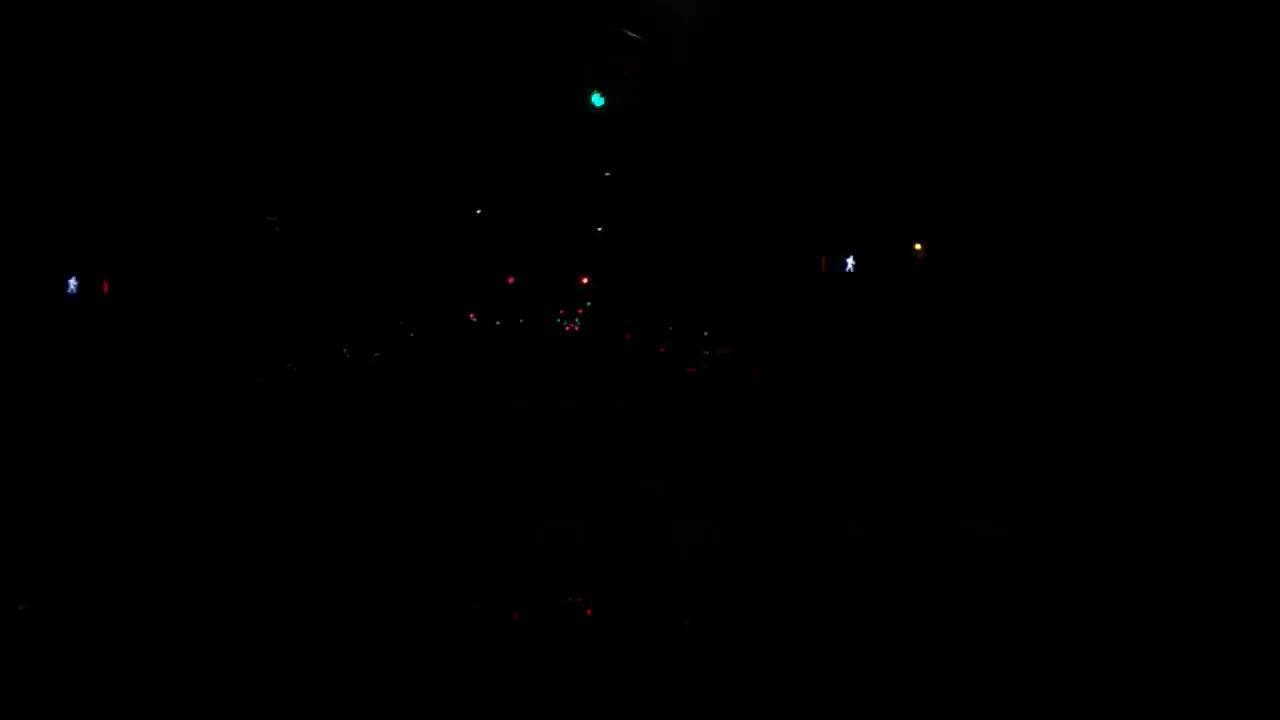traffic light: (840, 250, 863, 273), (87, 277, 111, 297), (817, 253, 836, 278), (63, 275, 83, 297), (590, 89, 607, 109), (503, 275, 519, 289), (577, 275, 591, 286)
